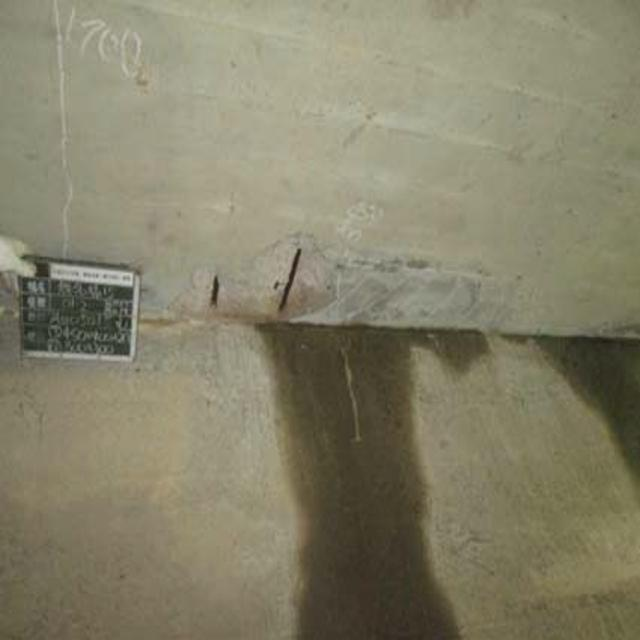leakage: (277, 323, 489, 640), (541, 308, 640, 466)
spalling: (176, 210, 351, 317)
